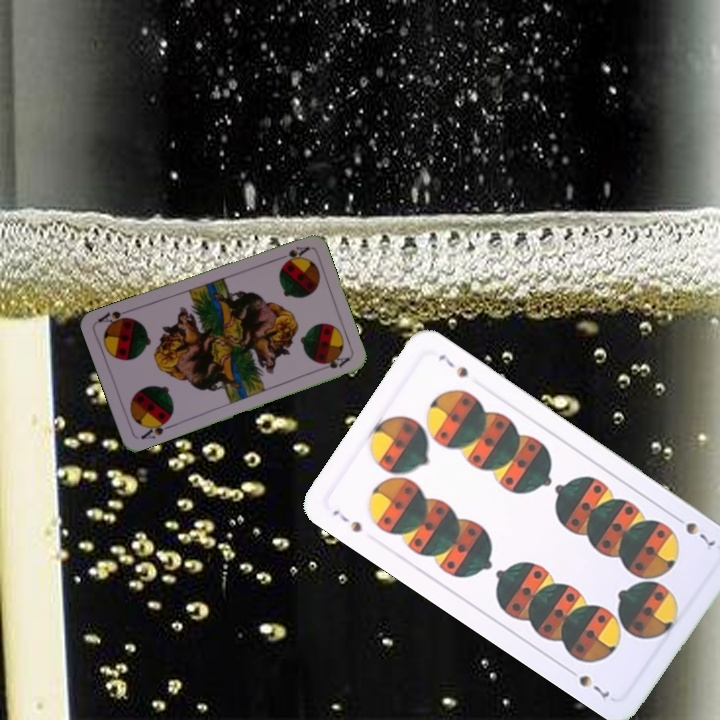S7: (669, 510, 719, 549), (328, 505, 365, 535)
SA: (137, 415, 175, 442), (272, 242, 311, 265)
